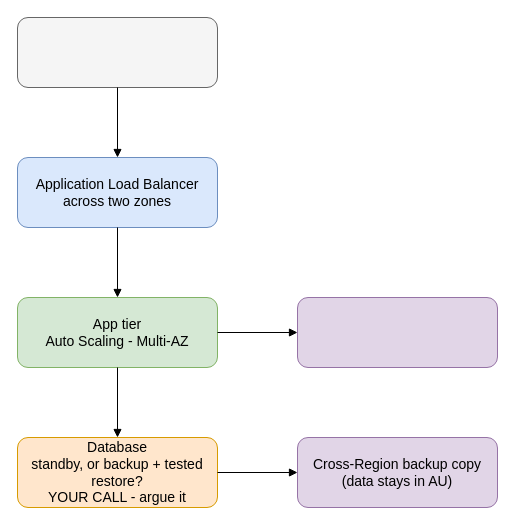
The diagram is 515 pixels wide and 525 high, and some of its shapes have lost their labels. Here are the shapes that lost their labels. From the top down, the box of each, then its label:
(16, 16, 218, 88): Public visitors 24x7
(296, 296, 498, 368): Site media moved off the instance shared by every instance
